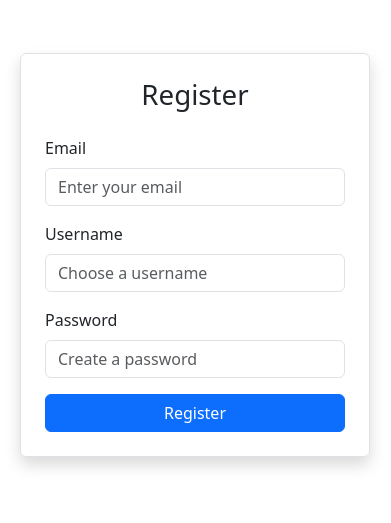
RegisterForm Component Testing › displays error message on failed registration
Type "test@example.com" into the field with placeholder "Enter your email" at (195, 187), box [45,168,345,206]
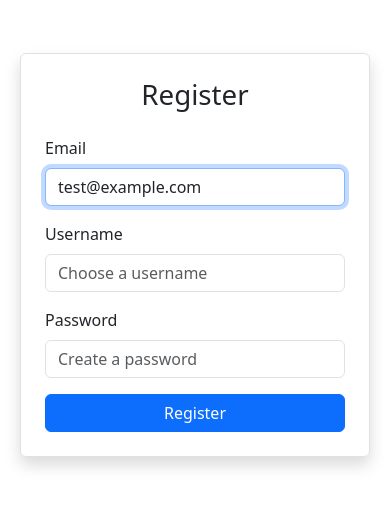
Type "testuser" into the field with placeholder "Choose a username" at (195, 273), box [45,254,345,292]
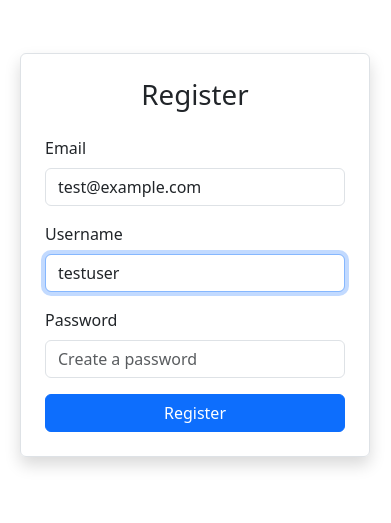
Type "password123" into the password field with placeholder "Create a password" at (195, 359), box [45,340,345,378]
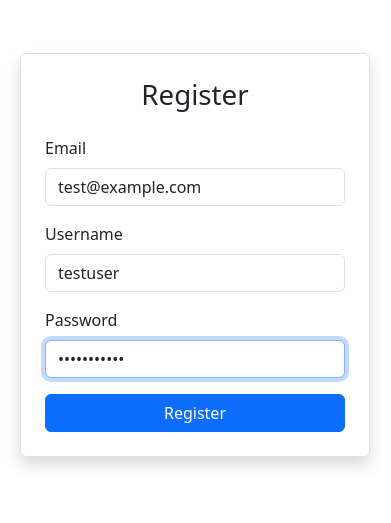
Click the button "Register" at (195, 413), box [45,394,345,432]
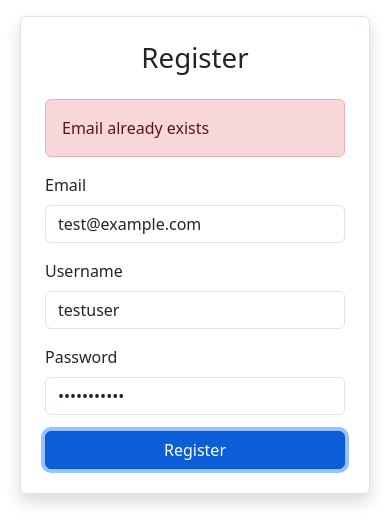
Expected: the text "Email already exists" is shown, [45,99,345,157]
